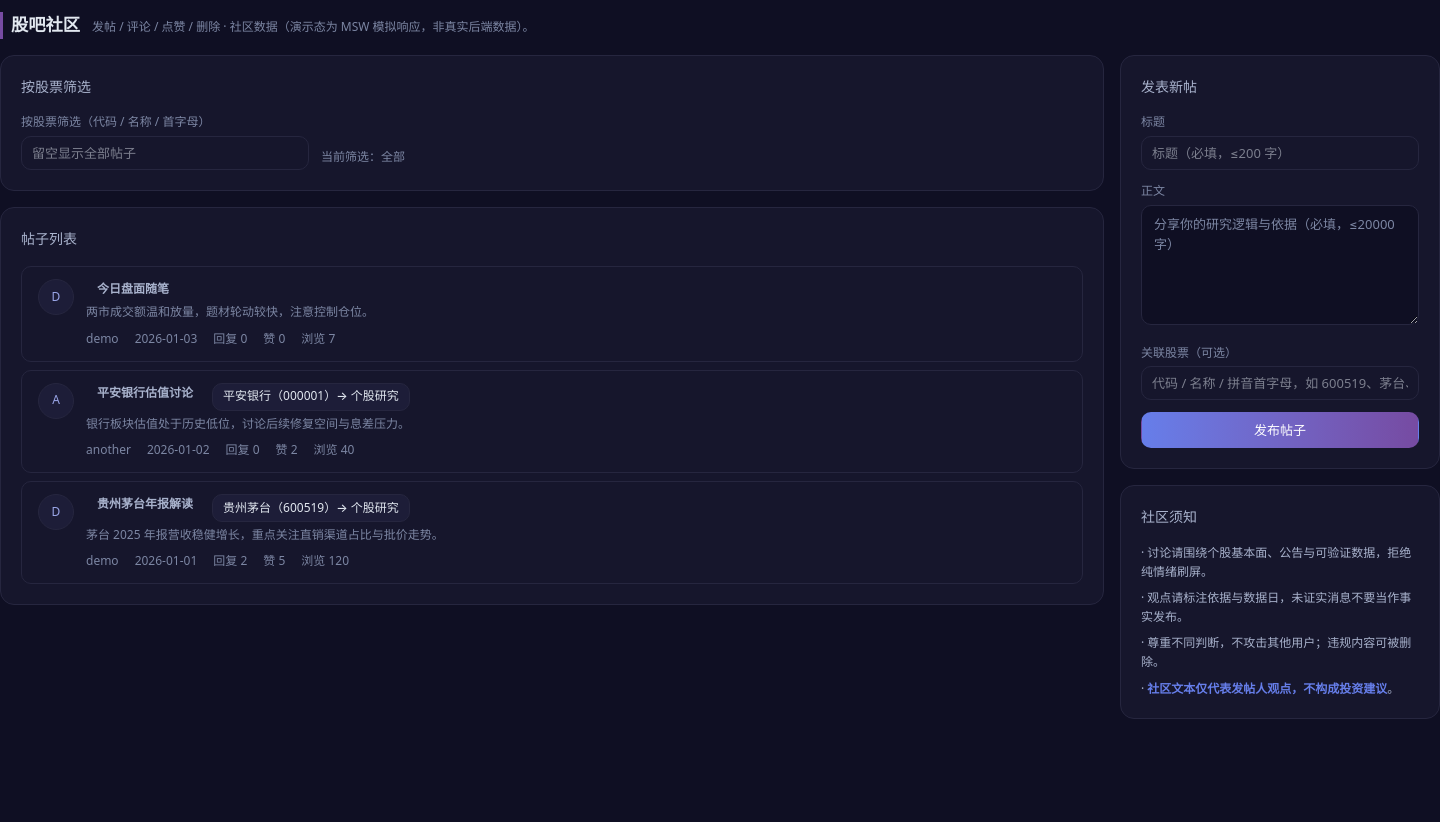
Scenario: ForumView · 股吧社区（演示态 MSW 真测） › 空标题发帖 → 显示真实错误「标题不能为空」，不伪造成功
This screenshot has width=1440, height=822.
Expected: the button "贵州茅台年报解读" is shown, left=86, top=494, right=204, bottom=514
Type "只有正文没有标题" into the text box named "帖子内容" at (1280, 265), box left=1141, top=205, right=1419, bottom=325
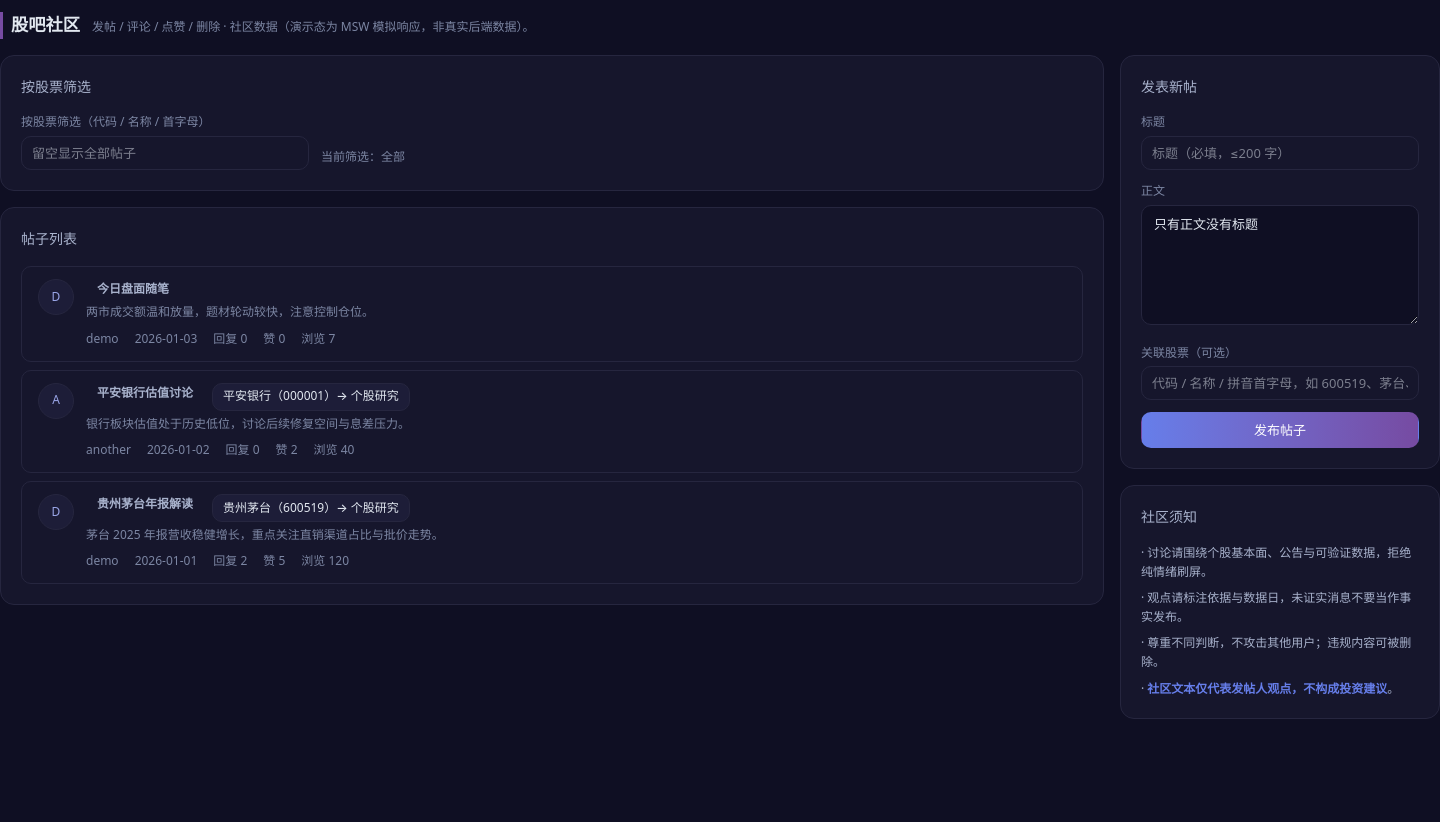
Click the button "发布帖子" at (1280, 430), box left=1141, top=412, right=1419, bottom=448
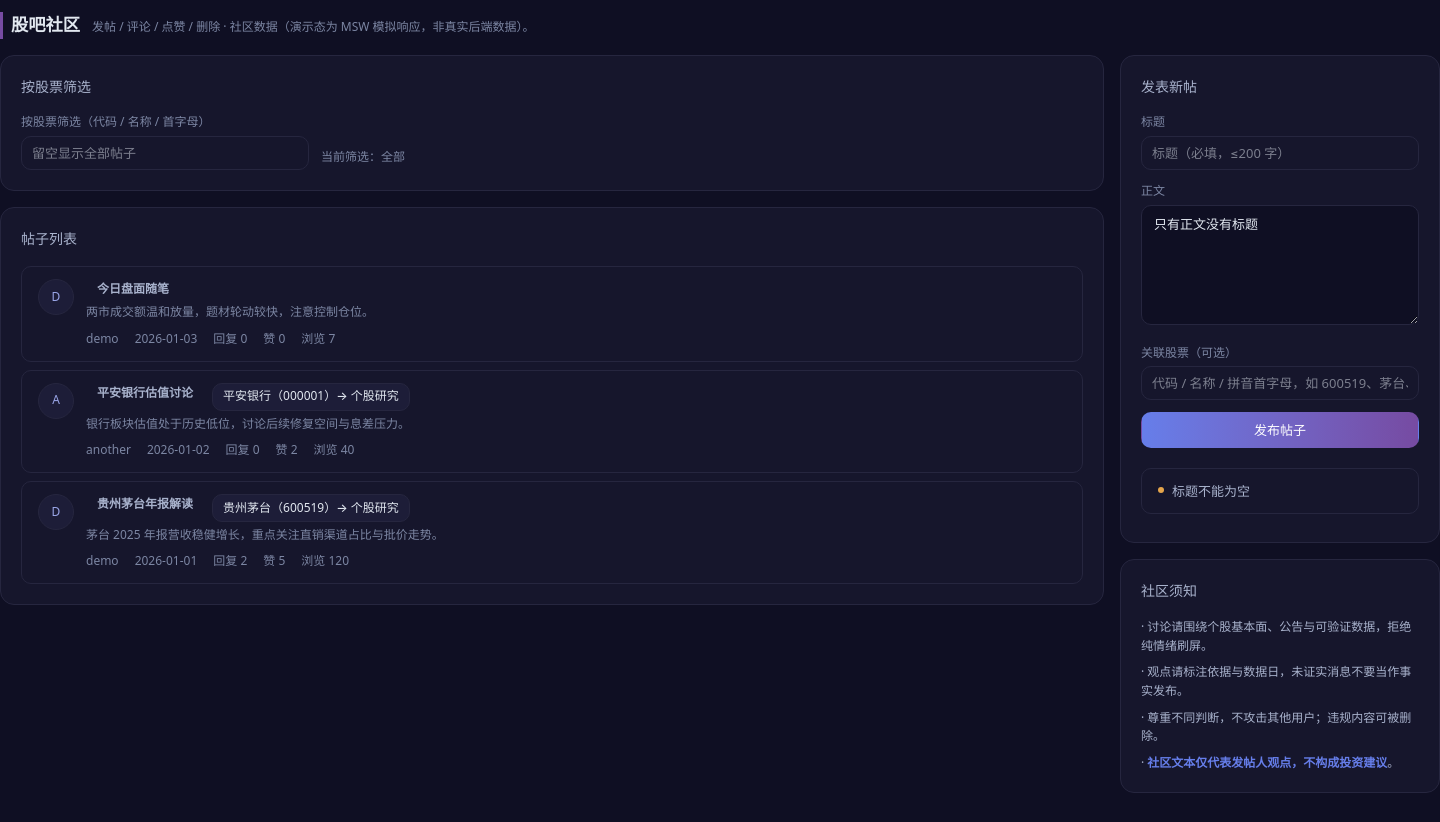
Expected: the button "贵州茅台年报解读" is shown, left=86, top=494, right=204, bottom=514
Result: the text "标题不能为空" is shown at left=1172, top=481, right=1250, bottom=501
